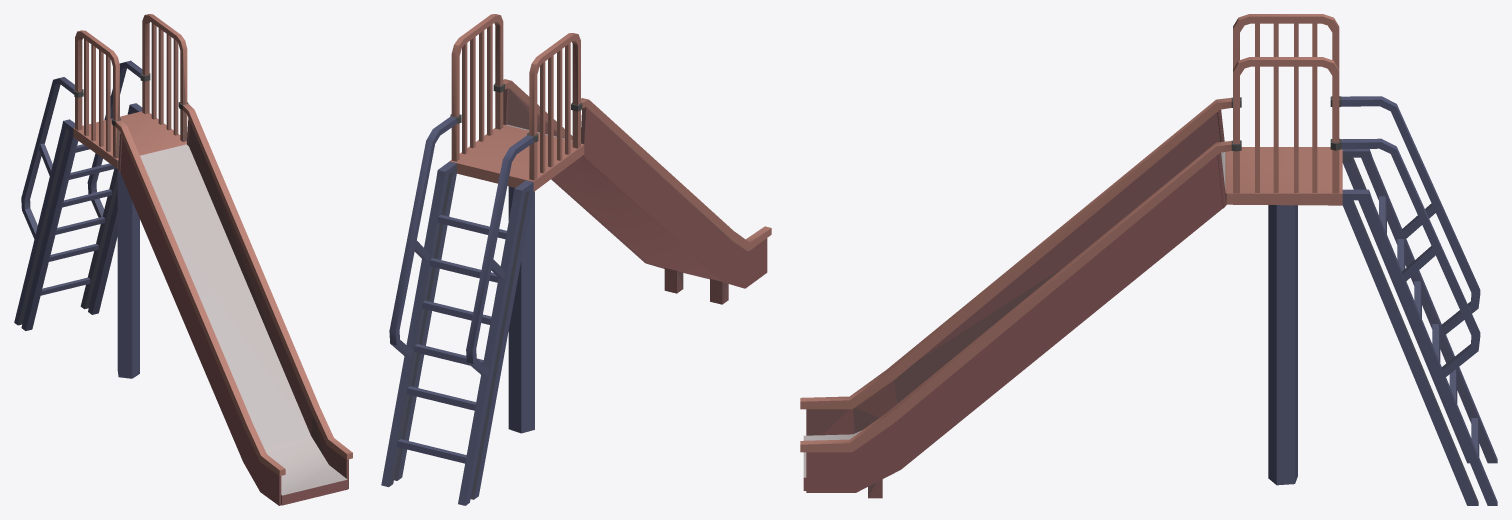
The model's file is play-slide.glb.
3 views of the same model, side by side, from view 1: azimuth 30°, elevation 25°; view 2: azimuth 150°, elevation 25°; view 3: azimuth 270°, elevation 25° (orthographic). The views are drawn at different scales.
Parts seen in each view (by area): view 1: lod0; view 2: lod0; view 3: lod0.
Boxes of the visible parts, x1,y1,x2,y2 form: lod0: [14, 14, 352, 505]; lod0: [381, 14, 771, 505]; lod0: [800, 14, 1497, 505].
Size of what is drawn, in the model's own units: 0.5781 by 2.47 by 3.5.
